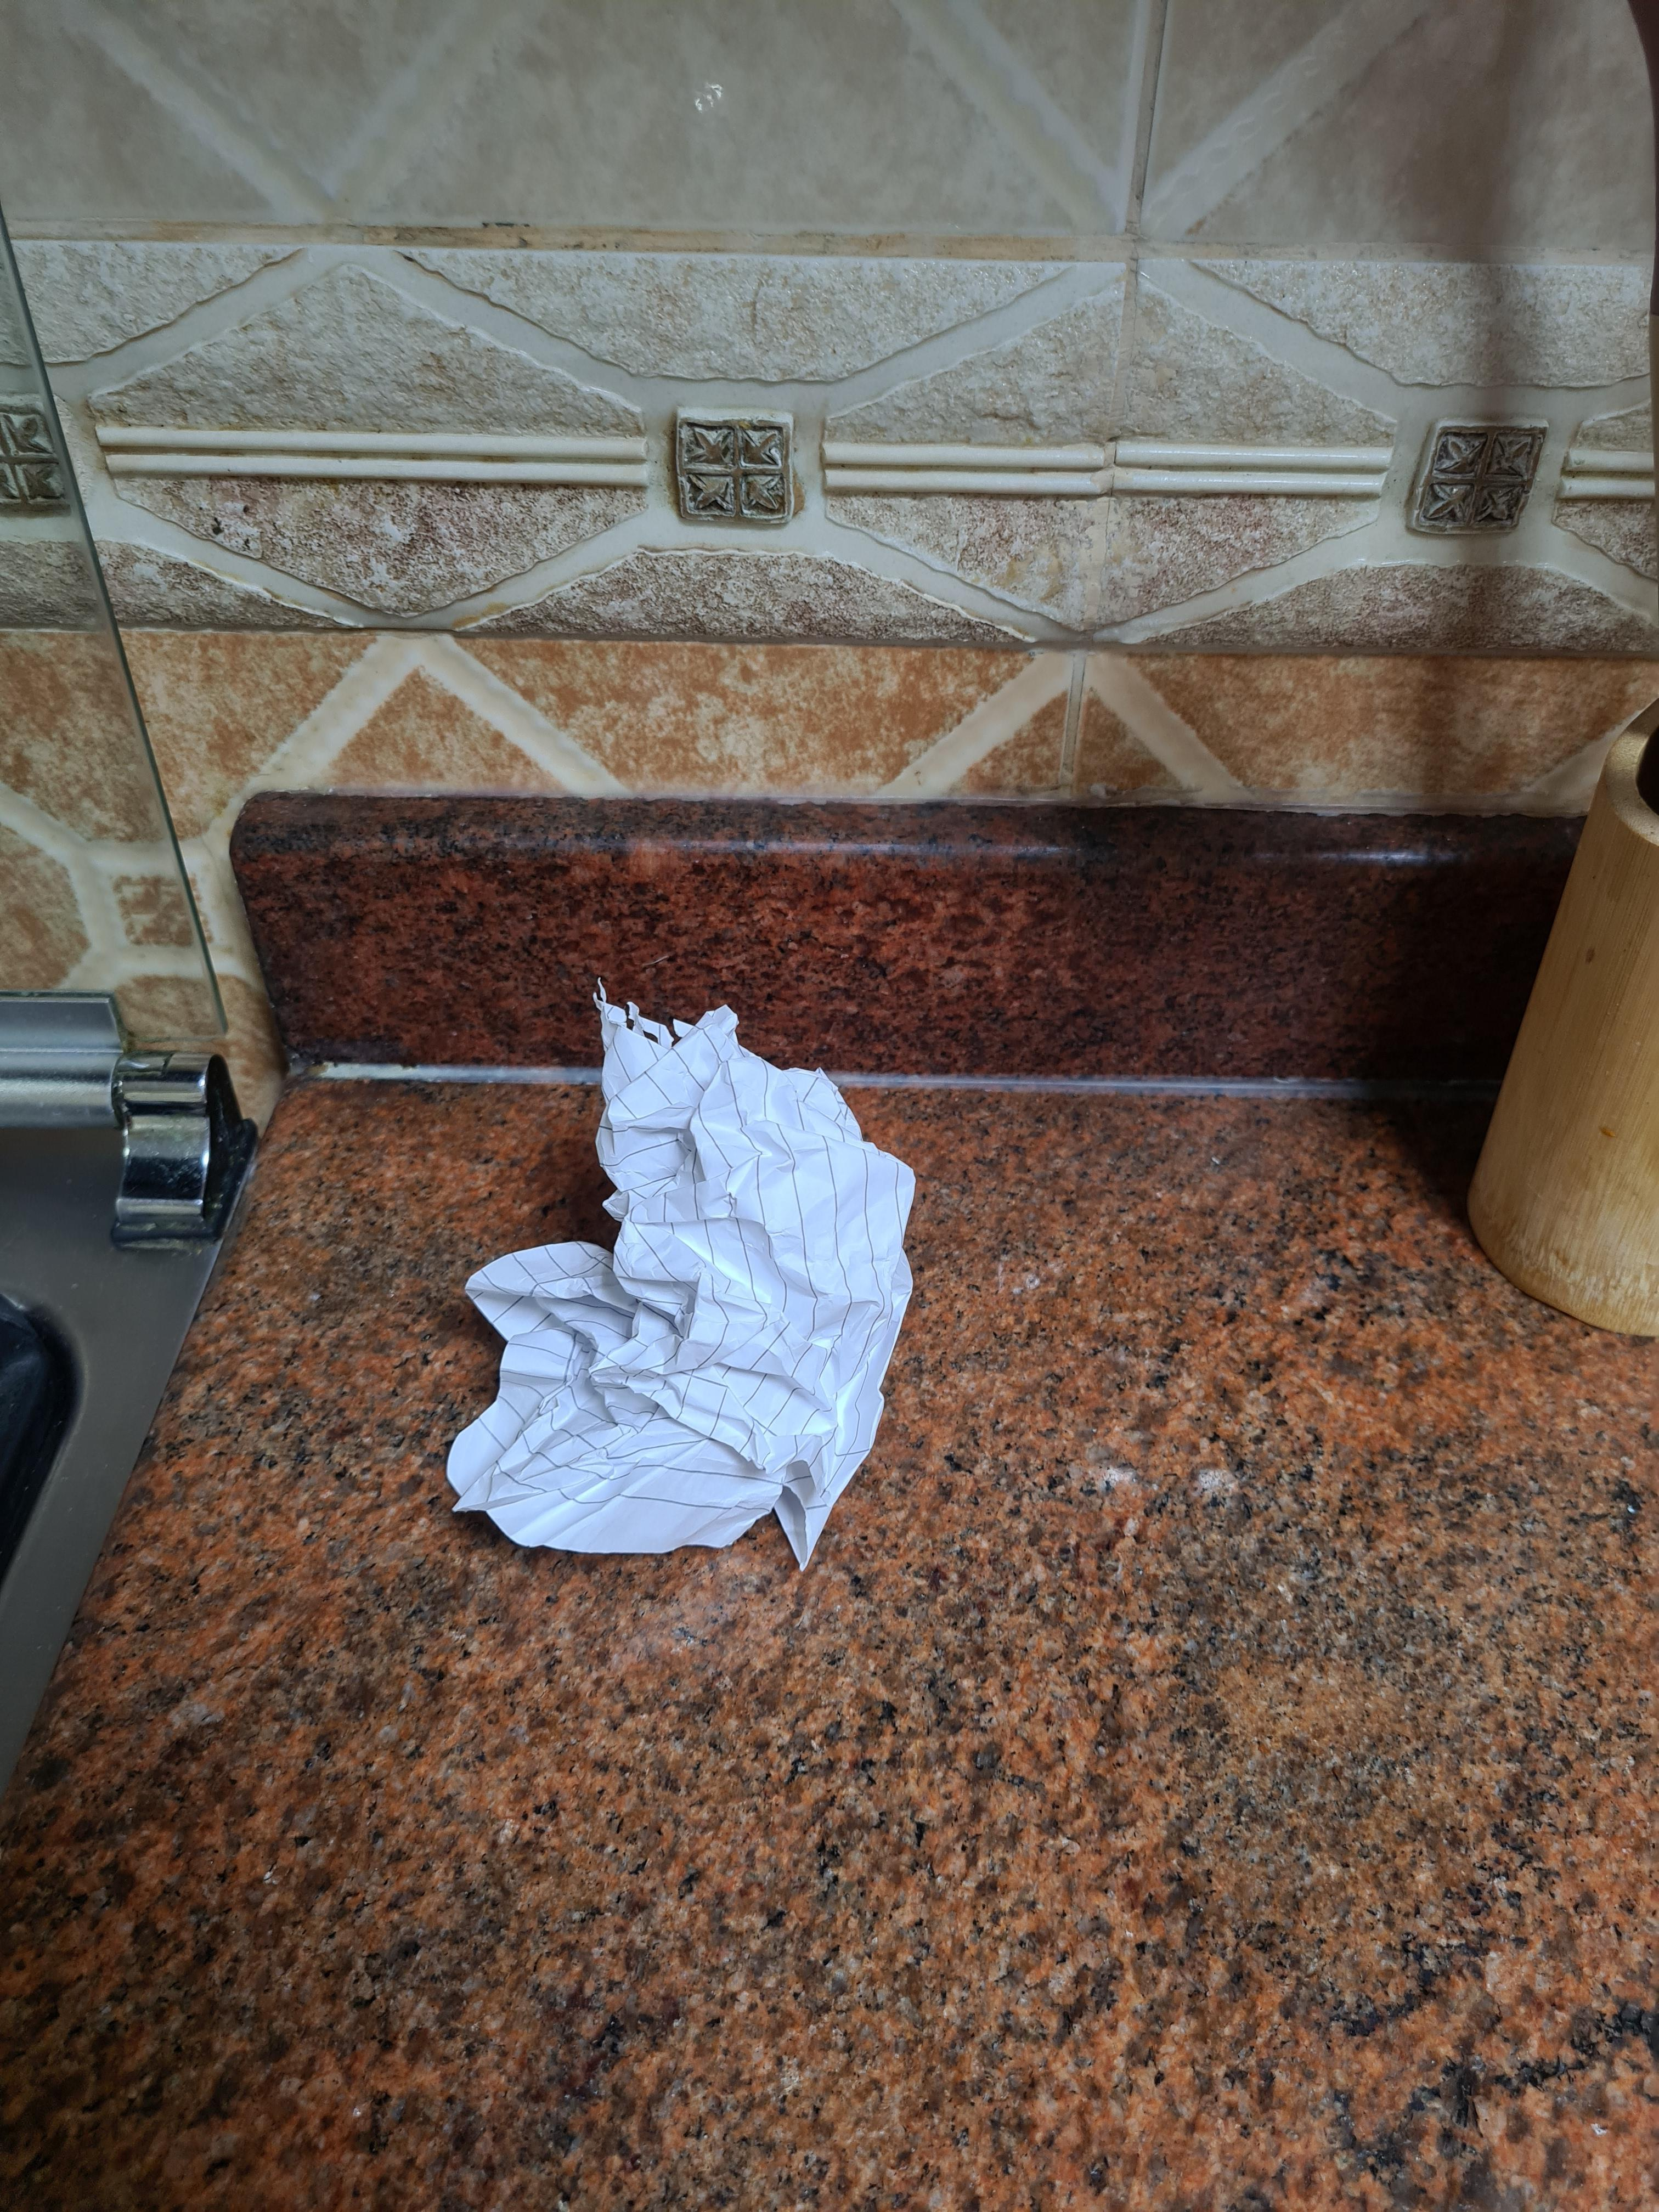Paper: (440, 994, 940, 1565)
